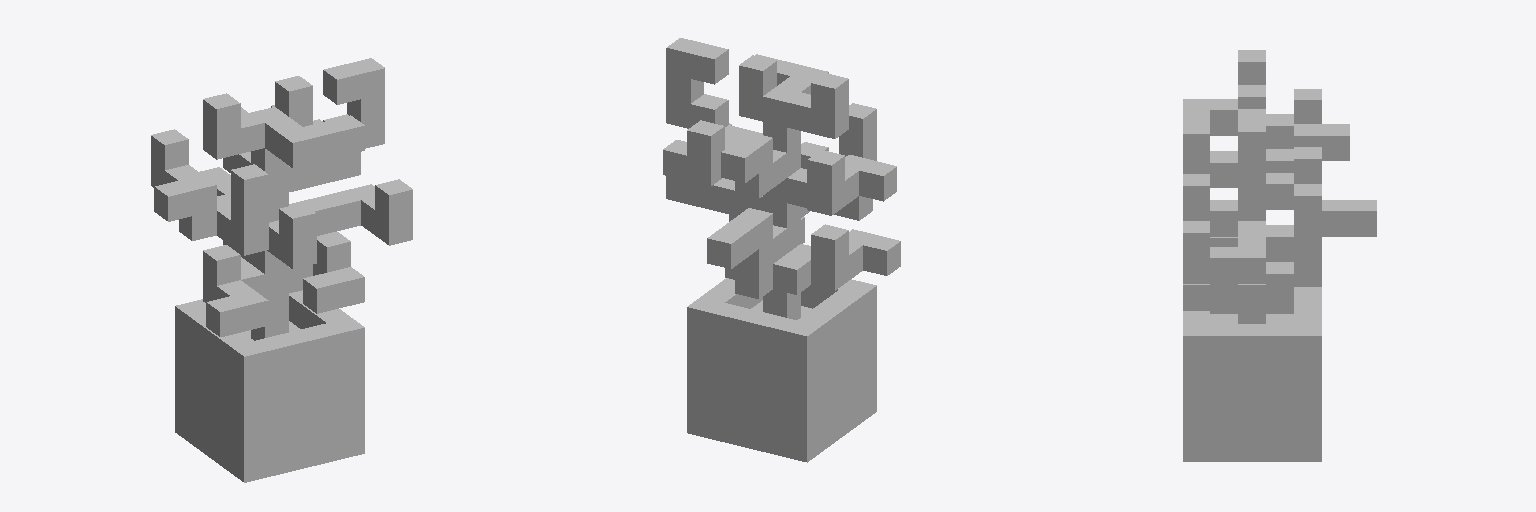
Rendered from cactus.obj.
3 views of the same model, side by side, from view 1: azimuth 30°, elevation 25°; view 2: azimuth 150°, elevation 25°; view 3: azimuth 270°, elevation 25° (orthographic).
Visible parts, largest first — view 1: object 1; view 2: object 1; view 3: object 1.
Boxes of the visible parts, <box> form: object 1: <box>151,58,412,482</box>; object 1: <box>663,38,900,462</box>; object 1: <box>1183,50,1376,461</box>.
Size of the model in its own units: 0.9 by 1.4 by 0.7.